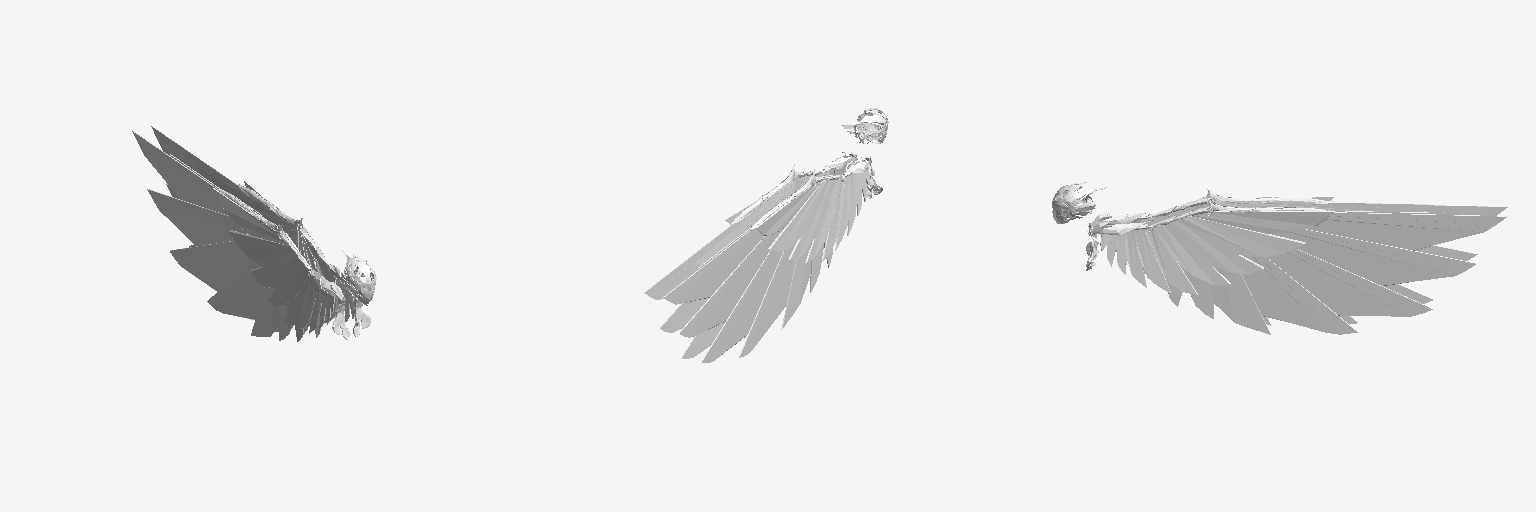
File: VHWuvs.obj
The picture shows the model from 3 angles: view 1: azimuth 30°, elevation 25°; view 2: azimuth 150°, elevation 25°; view 3: azimuth 270°, elevation 25°; orthographic projection.
Visible parts, largest first — view 1: ZBrushPolyMesh3D; view 2: ZBrushPolyMesh3D; view 3: ZBrushPolyMesh3D.
Boxes of the visible parts, box(x1,y1,x2,y2) form: ZBrushPolyMesh3D: box(132, 126, 376, 341); ZBrushPolyMesh3D: box(644, 108, 888, 362); ZBrushPolyMesh3D: box(1052, 182, 1507, 334).
Bounding box in the file's own units: 26.8 × 96.93 × 269.